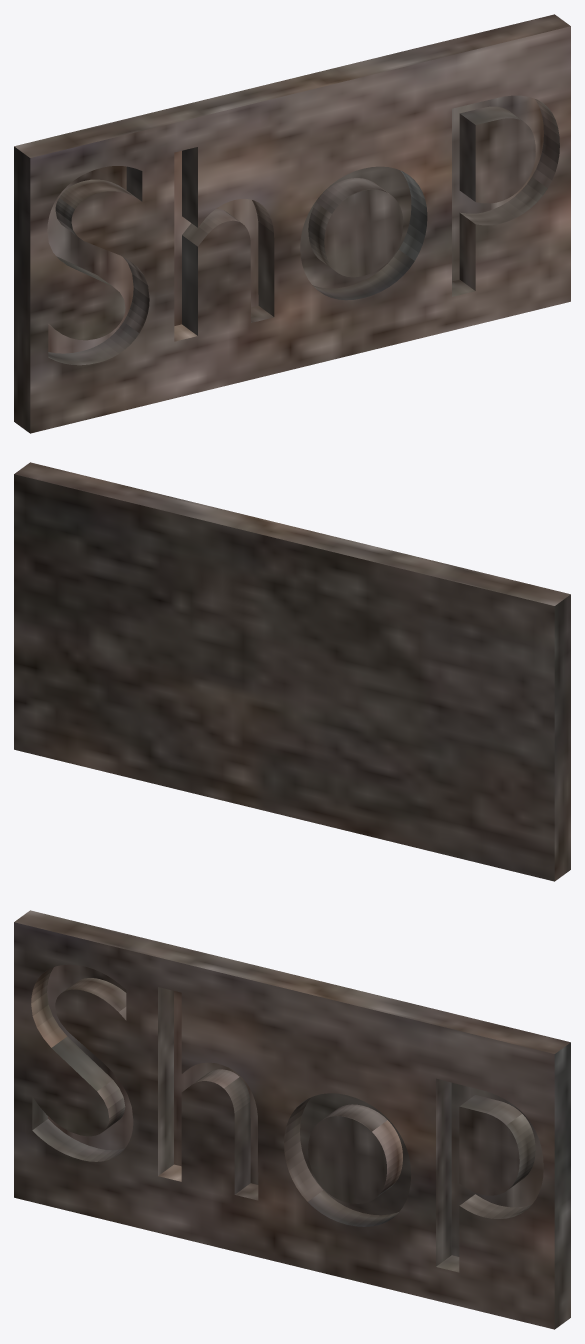
Rendered from Shopr.glb.
3 renders of one model, top to bottom at view 1: azimuth 30°, elevation 25°; view 2: azimuth 150°, elevation 25°; view 3: azimuth 330°, elevation 25°, orthographic.
Parts seen in each view (by area): view 1: Cube; view 2: Cube; view 3: Cube.
Boxes of the visible parts, left/top/right/bottom form: Cube: left=14, top=14, right=570, bottom=433; Cube: left=14, top=462, right=570, bottom=881; Cube: left=14, top=910, right=570, bottom=1329.
Size of the model in its own units: 1.37 by 0.6686 by 0.0713.
Materials: 1 (1 with a texture image).
